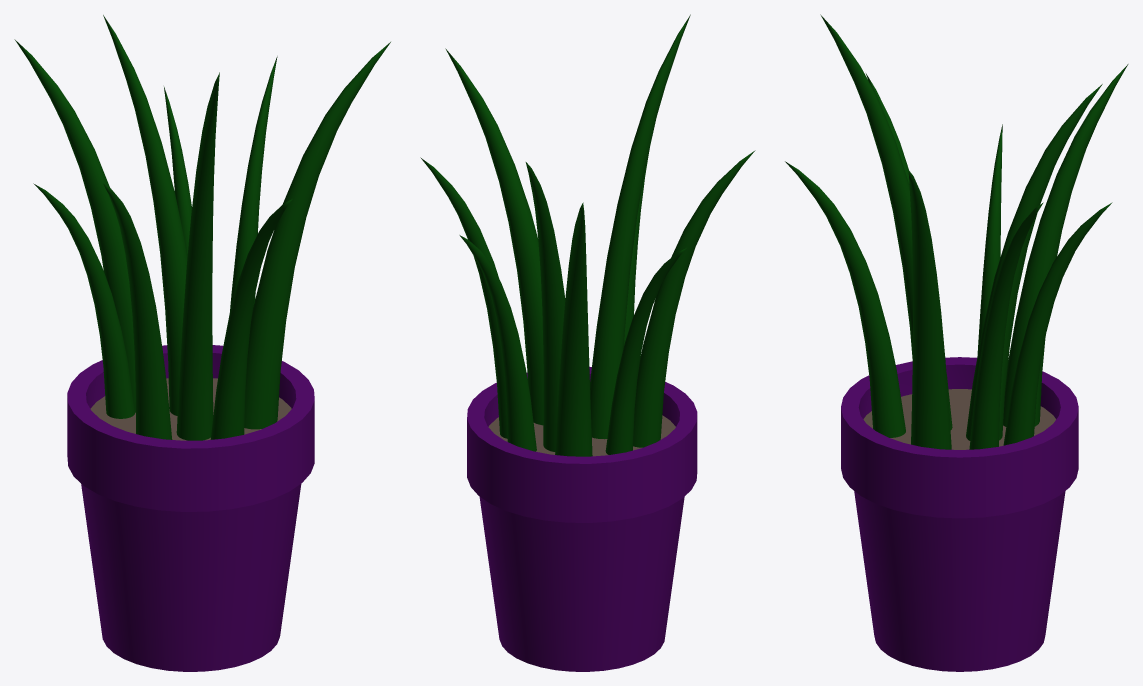
Rendered from Plante4_6.fbx.
3 views of the same model, side by side, from view 1: azimuth 30°, elevation 25°; view 2: azimuth 150°, elevation 25°; view 3: azimuth 270°, elevation 25° (orthographic). The views are drawn at different scales.
Visible parts, largest first — view 1: pCylinder725, pCone27, pCone28, pCone25, pCone21, pCone22, pCone20, pCone23, pCone24, pCone26, pCylinder724; view 2: pCylinder725, pCone28, pCone27, pCone21, pCone22, pCone25, pCone26, pCone23, pCone24, pCylinder724, pCone20; view 3: pCylinder725, pCone27, pCone20, pCone22, pCone26, pCone24, pCone28, pCone25, pCone23, pCylinder724.
Part boxes in pixels (left/top/right/bottom): pCylinder725: left=67, top=345, right=314, bottom=671; pCone27: left=244, top=42, right=390, bottom=429; pCone28: left=176, top=72, right=219, bottom=440; pCone25: left=103, top=15, right=187, bottom=415; pCone21: left=103, top=183, right=172, bottom=439; pCone22: left=14, top=39, right=135, bottom=412; pCone20: left=210, top=199, right=292, bottom=439; pCone23: left=33, top=183, right=135, bottom=418; pCone24: left=230, top=56, right=277, bottom=311; pCone26: left=164, top=87, right=191, bottom=255; pCylinder724: left=90, top=378, right=291, bottom=440; pCylinder725: left=467, top=366, right=697, bottom=671; pCone28: left=590, top=14, right=690, bottom=439; pCone27: left=445, top=48, right=543, bottom=425; pCone21: left=633, top=150, right=755, bottom=447; pCone22: left=555, top=202, right=592, bottom=456; pCone25: left=525, top=162, right=565, bottom=451; pCone26: left=459, top=235, right=536, bottom=451; pCone23: left=605, top=247, right=687, bottom=454; pCone24: left=420, top=157, right=507, bottom=438; pCylinder724: left=488, top=415, right=675, bottom=456; pCone20: left=624, top=149, right=649, bottom=345; pCylinder725: left=841, top=357, right=1078, bottom=671; pCone27: left=908, top=170, right=951, bottom=449; pCone20: left=785, top=161, right=905, bottom=437; pCone22: left=1003, top=64, right=1128, bottom=426; pCone26: left=1003, top=202, right=1112, bottom=445; pCone24: left=969, top=202, right=1043, bottom=449; pCone28: left=820, top=14, right=952, bottom=429; pCone25: left=966, top=84, right=1102, bottom=440; pCone23: left=977, top=124, right=1002, bottom=356; pCylinder724: left=863, top=389, right=1055, bottom=449.
Size of the model in its own units: 16.25 by 31.25 by 16.23.
